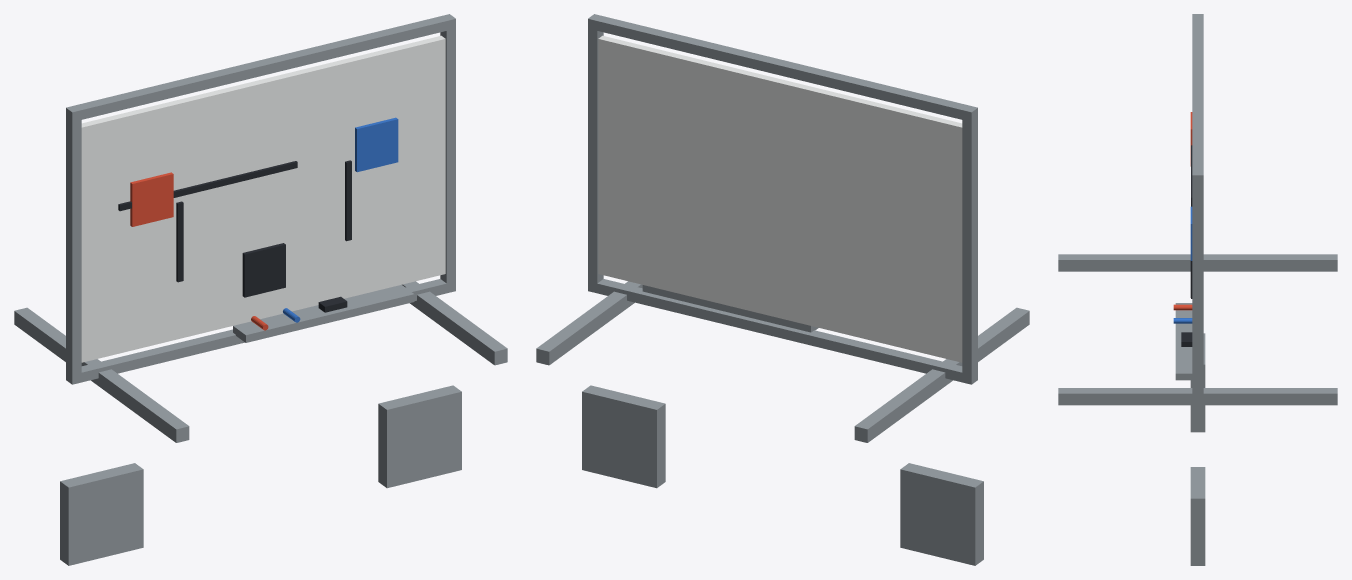
Rendered from whiteboard.glb.
3 renders of one model, left to right at view 1: azimuth 30°, elevation 25°; view 2: azimuth 150°, elevation 25°; view 3: azimuth 270°, elevation 25°, orthographic. The views are drawn at different scales.
Parts seen in each view (by area): view 1: board, footb, footb.001, topr, side, legb, botr, trayw, side.001, legb.001, node2, node3 (+3 smaller); view 2: board, footb, footb.001, topr, botr, side, legb, side.001, legb.001, trayw; view 3: legb.001, legb, side.001, topr, footb.001, trayw, footb.
Boxes of the visible parts, box(x1,y1,x2,y2) form: board: box(81, 35, 445, 362); footb: box(60, 463, 143, 565); footb.001: box(378, 385, 461, 488); topr: box(66, 14, 455, 120); side: box(66, 117, 81, 375); legb: box(14, 307, 189, 442); botr: box(66, 279, 455, 384); trayw: box(233, 285, 414, 342); side.001: box(440, 27, 455, 284); legb.001: box(402, 281, 507, 365); node2: box(355, 117, 398, 172); node3: box(242, 243, 285, 297); board: box(598, 35, 962, 362); footb: box(900, 463, 983, 565); footb.001: box(582, 385, 665, 488); topr: box(588, 14, 977, 121); botr: box(588, 279, 977, 384); side: box(962, 117, 977, 375); legb: box(854, 307, 1029, 442); side.001: box(588, 28, 603, 284); legb.001: box(536, 281, 642, 365); trayw: box(642, 285, 818, 332); legb.001: box(1058, 388, 1337, 405); legb: box(1058, 254, 1337, 271); side.001: box(1192, 182, 1203, 401); topr: box(1192, 14, 1203, 183); footb.001: box(1190, 467, 1205, 565); trayw: box(1175, 303, 1192, 380); footb: box(1190, 333, 1205, 432).
Size of the model in its own units: 2.1 by 2.3 by 1.5.
